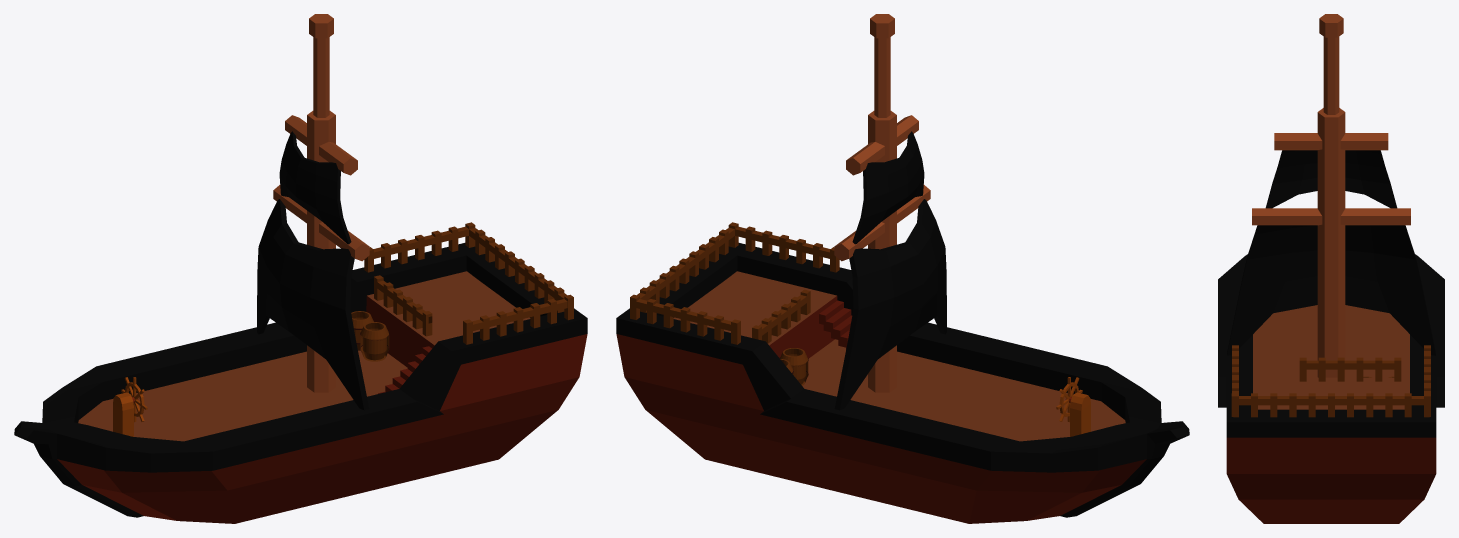
The model's file is ship.glb.
3 renders of one model, left to right at view 1: azimuth 30°, elevation 25°; view 2: azimuth 150°, elevation 25°; view 3: azimuth 270°, elevation 25°, orthographic. The views are drawn at different scales.
Parts seen in each view (by area): view 1: machta; view 2: machta; view 3: machta.
Boxes of the visible parts, bbox=[...] form: machta: bbox=[14, 14, 587, 523]; machta: bbox=[616, 14, 1189, 523]; machta: bbox=[1218, 14, 1444, 523].
Size of the model in its own units: 14 by 11.6 by 5.44.
